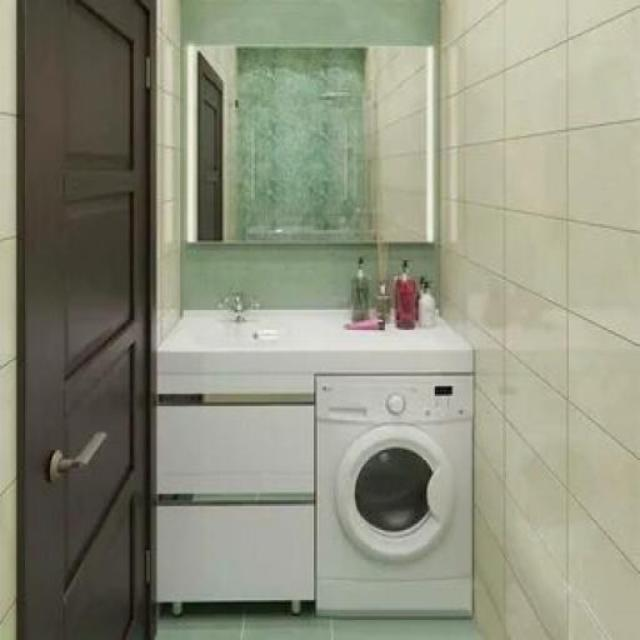Washing-Machine: (317, 369, 475, 617)
